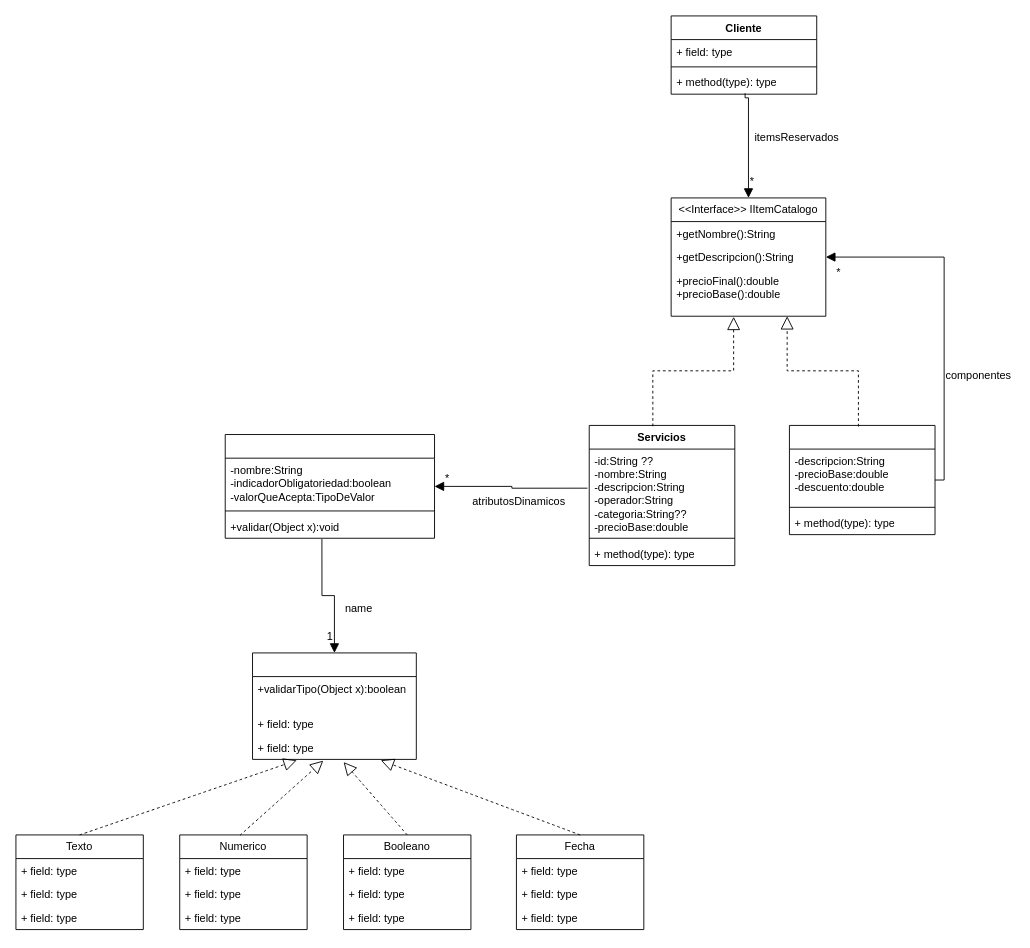
This 1030x948 diagram has some shape labels left out. The shapes that lost their labels are listed below. From the top down, each one's box as (x1, y1, x2, y2) in pixels, then its label:
(224, 434, 435, 538): AtributoDinamico
(789, 425, 935, 535): Paquetes
(252, 652, 416, 759): <<Interface>>ITipoDeValor
